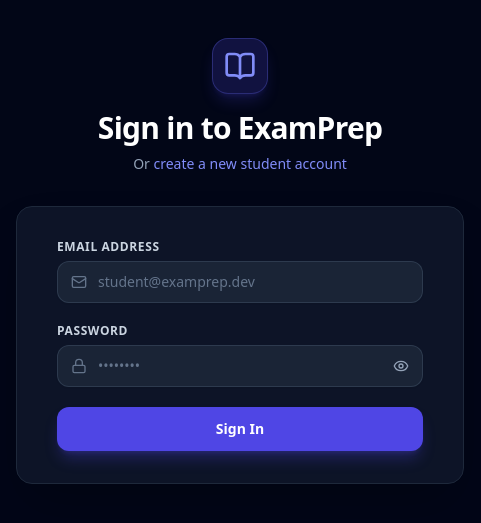
Test: Authentication & Route Guard Tests › renders login form validation errors when submitting empty or invalid fields
Step 1. Click the button "Sign In" → point(240, 429), box [57,407,423,451]
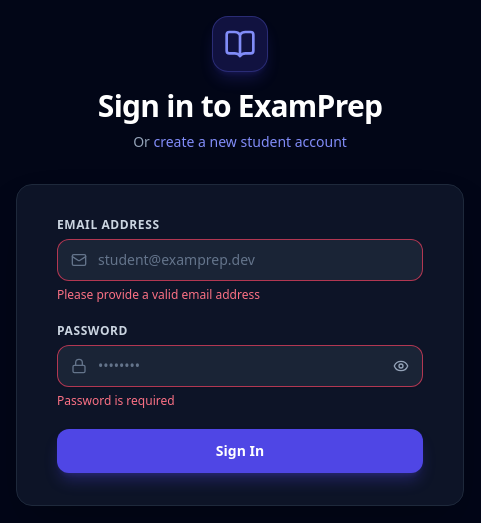
Result: the text "Please provide a valid email address" is shown at [57,287,260,303]
Result: the text "Password is required" is shown at [57,392,175,409]
